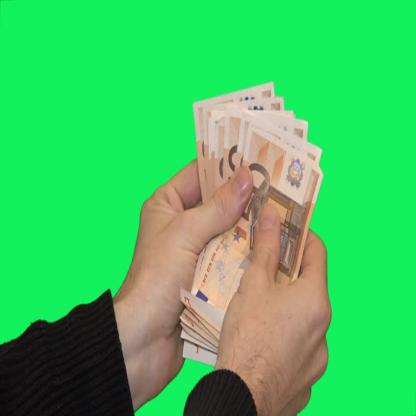billete: (178, 79, 326, 369)
